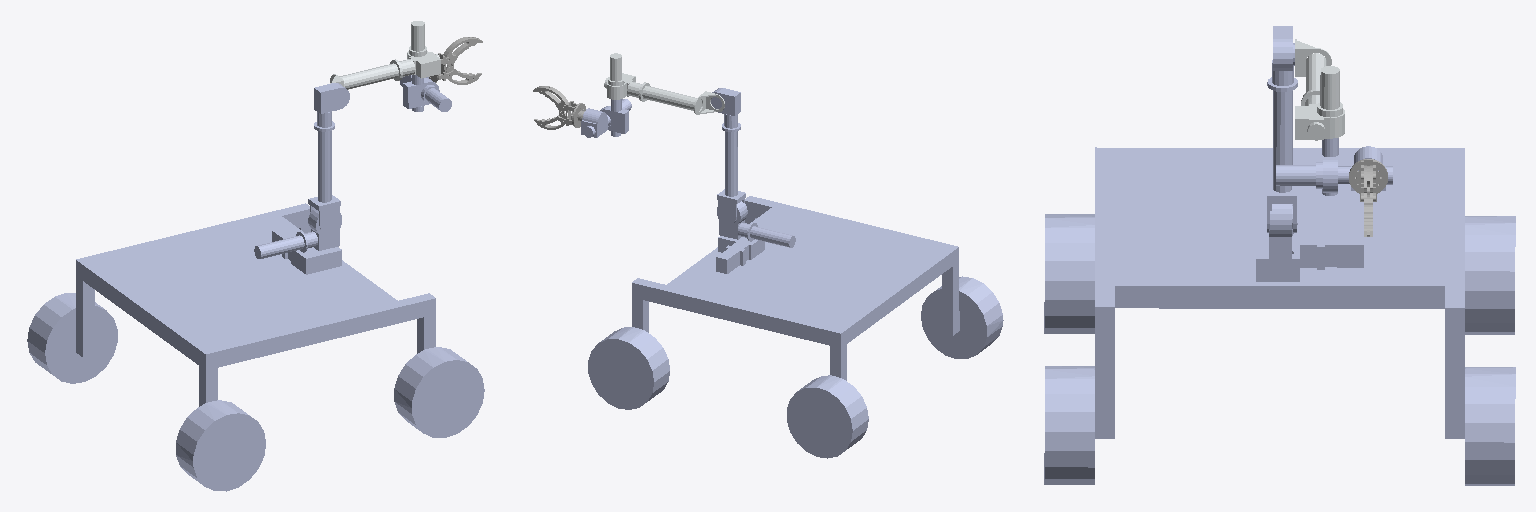
robot.urdf — arm_description:
<?xml version="1.0" encoding="utf-8"?>
<robot
  name="arm_description">
  
  <link name="world">
  </link>

  <joint 
    name="anchor_joint" 
    type="fixed" >
    <origin
      xyz="0 0 1"
      rpy="3.14 0 0" />
    <parent
      link="world" />
    <child
      link="base_link" />
  </joint>


  <link
    name="base_link">
    <inertial>
      <origin
        xyz="0.78499 -0.69958 0.6373"
        rpy="0 0 0" />
      <mass
        value="92.117" />
      <inertia
        ixx="1"
        ixy="1"
        ixz="0"
        iyy="1"
        iyz="0"
        izz="1" />
    </inertial>
    <visual>
      <origin
        xyz="0 0 0"
        rpy="0 0 0" />
      <geometry>
        <mesh
          filename="package://arm_description/meshes/base_link.STL" />
      </geometry>
      <material
        name="">
        <color
          rgba="0.79216 0.81961 0.93333 1" />
      </material>
    </visual>
    <collision>
      <origin
        xyz="0 0 0"
        rpy="0 0 0" />
      <geometry>
        <mesh
          filename="package://arm_description/meshes/base_link.STL" />
      </geometry>
    </collision>
  </link>
  
  <link
    name="link1">
    <inertial>
      <origin
        xyz="-0.061965 -0.0030178 0.060527"
        rpy="0 0 0" />
      <mass
        value="1.2544" />
      <inertia
        ixx="1"
        ixy="1"
        ixz="0"
        iyy="1"
        iyz="0"
        izz="1" />
    </inertial>
    <visual>
      <origin
        xyz="0 0 0"
        rpy="0 0 0" />
      <geometry>
        <mesh
          filename="package://arm_description/meshes/link1.STL" />
      </geometry>
      <material
        name="">
        <color
          rgba="0.79216 0.81961 0.93333 1" />
      </material>
    </visual>
    <collision>
      <origin
        xyz="0 0 0"
        rpy="0 0 0" />
      <geometry>
        <mesh
          filename="package://arm_description/meshes/link1.STL" />
      </geometry>
    </collision>
  </link>
  
  <joint
    name="joint1"
    type="revolute">
    <origin
      xyz="1.1008 -0.70375 0.41184"
      rpy="3.1416 0 0" />
    <parent
      link="base_link" />
    <child
      link="link1" />
    <axis
      xyz="0 0 1" />
    <limit
      lower="-3.14"
      upper="3.14"
      effort="100"
      velocity="20" />
    <dynamics damping="0.1" friction="1"/>
  </joint>
  
  <link
    name="link2">
    <inertial>
      <origin
        xyz="0.0088554 -0.28741 0.033072"
        rpy="0 0 0" />
      <!--mass
        value="1.567" /-->
      <mass
        value="1" />
      <inertia
        ixx="1"
        ixy="1"
        ixz="0"
        iyy="1"
        iyz="0"
        izz="1" />
    </inertial>
    <visual>
      <origin
        xyz="0 0 0"
        rpy="0 0 0" />
      <geometry>
        <mesh
          filename="package://arm_description/meshes/link2.STL" />
      </geometry>
      <material
        name="">
        <color
          rgba="0.79216 0.81961 0.93333 1" />
      </material>
    </visual>
    <collision>
      <origin
        xyz="0 0 0"
        rpy="0 0 0" />
      <geometry>
        <mesh
          filename="package://arm_description/meshes/link2.STL" />
      </geometry>
    </collision>
  </link>
  
  <joint
    name="joint2"
    type="revolute">
    <origin
      xyz="0 -0.03225 0.101"
      rpy="-1.5708 0 0" />
    <parent
      link="link1" />
    <child
      link="link2" />
    <axis
      xyz="0 0 1" />
    <limit
      lower="-1.19"
      upper="1.44"
      effort="100"
      velocity="20" />
    <dynamics damping="0.1" friction="1"/> 
  </joint>
  
  <link
    name="link3">
    <inertial>
      <origin
        xyz="0.30605 -0.013327 0.060364"
        rpy="0 0 0" />
      <!--mass
        value="4.6035" /-->
      <mass
        value="1" />  
      <inertia
        ixx="1"
        ixy="1"
        ixz="0"
        iyy="1"
        iyz="0"
        izz="1" />
    </inertial>
    <visual>
      <origin
        xyz="0 0 0"
        rpy="0 0 0" />
      <geometry>
        <mesh
          filename="package://arm_description/meshes/link3.STL" />
      </geometry>
      <material
        name="">
        <color
          rgba="0.89804 0.91765 0.92941 1" />
      </material>
    </visual>
    <collision>
      <origin
        xyz="0 0 0"
        rpy="0 0 0" />
      <geometry>
        <mesh
          filename="package://arm_description/meshes/link3.STL" />
      </geometry>
    </collision>
  </link>
  
  <joint
    name="joint3"
    type="revolute">
    <origin
      xyz="0.05 -0.478 0.062957"
      rpy="0 0 0" />
    <parent
      link="link2" />
    <child
      link="link3" />
    <axis
      xyz="0 0 1" />
    <limit
      lower="-1.32"
      upper="1.38"
      effort="100"
      velocity="20" />
    <dynamics damping="0.1" friction="1"/>
  </joint>
  
  <link
    name="link4">
    <inertial>
      <origin
        xyz="-0.017085 0.027964 -0.27145"
        rpy="0 0 0" />
      <mass
        value="0.78892" />
      <inertia
        ixx="1"
        ixy="1"
        ixz="0"
        iyy="1"
        iyz="0"
        izz="1" />
    </inertial>
    <visual>
      <origin
        xyz="0 0 0"
        rpy="0 0 0" />
      <geometry>
        <mesh
          filename="package://arm_description/meshes/link4.STL" />
      </geometry>
      <material
        name="">
        <color
          rgba="0.79216 0.81961 0.93333 1" />
      </material>
    </visual>
    <collision>
      <origin
        xyz="0 0 0"
        rpy="0 0 0" />
      <geometry>
        <mesh
          filename="package://arm_description/meshes/link4.STL" />
      </geometry>
    </collision>
  </link>
  
  <joint
    name="joint4"
    type="revolute">
    <origin
      xyz="0.407 -0.146 0.09"
      rpy="-1.5708 0 -3.1416" />
    <parent
      link="link3" />
    <child
      link="link4" />
    <axis
      xyz="0 0 1" />
    <limit
      lower="-3.14"
      upper="3.14"
      effort="100"
      velocity="20" />
    <dynamics damping="0.1" friction="1"/>
  </joint>
  
  <link
    name="link5">
    <inertial>
      <origin
        xyz="0.0055271 -0.013974 -0.064971"
        rpy="0 0 0" />
      <mass
        value="0.58344" />
      <inertia
        ixx="1"
        ixy="1"
        ixz="0"
        iyy="1"
        iyz="0"
        izz="1" />
    </inertial>
    <visual>
      <origin
        xyz="0 0 0"
        rpy="0 0 0" />
      <geometry>
        <mesh
          filename="package://arm_description/meshes/link5.STL" />
      </geometry>
      <material
        name="">
        <color
          rgba="0.79216 0.81961 0.93333 1" />
      </material>
    </visual>
    <collision>
      <origin
        xyz="0 0 0"
        rpy="0 0 0" />
      <geometry>
        <mesh
          filename="package://arm_description/meshes/link5.STL" />
      </geometry>
    </collision>
  </link>
  
  <joint
    name="joint5"
    type="revolute">
    <origin
      xyz="-0.035 -0.159 -0.278"
      rpy="-1.5708 -1.118E-15 -3.1416" />
    <parent
      link="link4" />
    <child
      link="link5" />
    <axis
      xyz="0 0 1" />
    <limit
      lower="-3.14"
      upper="3.14"
      effort="100"
      velocity="20" />
    <dynamics damping="0.1" friction="1"/>
  </joint>
  
  <link
    name="link6">
    <inertial>
      <origin
        xyz="2.2204E-16 -0.00074113 0.17489"
        rpy="0 0 0" />
      <mass
        value="0.86825" />
      <inertia
        ixx="1"
        ixy="1"
        ixz="0"
        iyy="1"
        iyz="0"
        izz="1" />
    </inertial>
    <visual>
      <origin
        xyz="0 0 0"
        rpy="0 0 0" />
      <geometry>
        <mesh
          filename="package://arm_description/meshes/link6.STL" />
      </geometry>
      <material
        name="">
        <color
          rgba="0.75294 0.75294 0.75294 1" />
      </material>
    </visual>
    <collision>
      <origin
        xyz="0 0 0"
        rpy="0 0 0" />
      <geometry>
        <mesh
          filename="package://arm_description/meshes/link6.STL" />
      </geometry>
    </collision>
  </link>
  
  <joint
    name="joint6"
    type="revolute">
    <!--origin
      xyz="-0.028 -0.031 -0.062"
      rpy="0 1.5708 0" /-->
    <origin
      xyz="0.16 -0.031 -0.062"
      rpy="0 1.5708 0" />
    <parent
      link="link5" />
    <child
      link="link6" />
    <axis
      xyz="0 0 1" />
    <limit
      lower="-3.14"
      upper="3.14"
      effort="100"
      velocity="20" />
    <dynamics damping="0.1" friction="1"/>
  </joint>

  <transmission name="tran1">
    <type>transmission_interface/SimpleTransmission</type>
    <joint name="joint1">
      <hardwareInterface>hardware_interface/EffortJointInterface</hardwareInterface>
    </joint>
    <actuator name="motor1">
      <hardwareInterface>hardware_interface/EffortJointInterface</hardwareInterface>
      <mechanicalReduction>1</mechanicalReduction>
    </actuator>
  </transmission>

  <transmission name="tran2">
    <type>transmission_interface/SimpleTransmission</type>
    <joint name="joint2">
      <hardwareInterface>hardware_interface/EffortJointInterface</hardwareInterface>
    </joint>
    <actuator name="motor2">
      <hardwareInterface>hardware_interface/EffortJointInterface</hardwareInterface>
      <mechanicalReduction>1</mechanicalReduction>
    </actuator>
  </transmission>

  <transmission name="tran3">
    <type>transmission_interface/SimpleTransmission</type>
    <joint name="joint3">
      <hardwareInterface>hardware_interface/EffortJointInterface</hardwareInterface>
    </joint>
    <actuator name="motor3">
      <hardwareInterface>hardware_interface/EffortJointInterface</hardwareInterface>
      <mechanicalReduction>1</mechanicalReduction>
    </actuator>
  </transmission>

  <transmission name="tran4">
    <type>transmission_interface/SimpleTransmission</type>
    <joint name="joint4">
      <hardwareInterface>hardware_interface/EffortJointInterface</hardwareInterface>
    </joint>
    <actuator name="motor4">
      <hardwareInterface>hardware_interface/EffortJointInterface</hardwareInterface>
      <mechanicalReduction>1</mechanicalReduction>
    </actuator>
  </transmission>

  <transmission name="tran5">
    <type>transmission_interface/SimpleTransmission</type>
    <joint name="joint5">
      <hardwareInterface>hardware_interface/EffortJointInterface</hardwareInterface>
    </joint>
    <actuator name="motor5">
      <hardwareInterface>hardware_interface/EffortJointInterface</hardwareInterface>
      <mechanicalReduction>1</mechanicalReduction>
    </actuator>
  </transmission>

  <transmission name="tran6">
    <type>transmission_interface/SimpleTransmission</type>
    <joint name="joint6">
      <hardwareInterface>hardware_interface/EffortJointInterface</hardwareInterface>
    </joint>
    <actuator name="motor6">
      <hardwareInterface>hardware_interface/EffortJointInterface</hardwareInterface>
      <mechanicalReduction>1</mechanicalReduction>
    </actuator>
  </transmission>

  <gazebo>
    <plugin name="gazebo_ros_control" filename="libgazebo_ros_control.so">
    </plugin>
  </gazebo>

</robot>

--- Render facts (derived) ---
Views: 3 orthographic renders of the robot side by side, from view 1: azimuth 30°, elevation 25°; view 2: azimuth 150°, elevation 25°; view 3: azimuth 270°, elevation 25°.
Robot: arm_description — 8 links, 7 joints (6 revolute, 1 fixed); root link world; default pose: all joints at 0.
Visible links, largest first — view 1: base_link, link2, link3, link1, link4, link6; view 2: base_link, link2, link3, link1, link6, link4, link5; view 3: base_link, link3, link2, link4, link6, link1, link5.
Boxes of the visible links, x1,y1,x2,y2 form: base_link: [27, 203, 484, 491]; link2: [308, 83, 349, 233]; link3: [330, 21, 440, 89]; link1: [254, 208, 341, 258]; link4: [403, 75, 451, 111]; link6: [429, 37, 482, 84]; base_link: [588, 196, 1003, 458]; link2: [711, 88, 745, 224]; link3: [604, 53, 724, 114]; link1: [717, 201, 795, 247]; link6: [533, 86, 585, 129]; link4: [600, 99, 631, 136]; link5: [581, 108, 610, 137]; base_link: [1044, 147, 1515, 485]; link3: [1295, 39, 1344, 140]; link2: [1267, 26, 1297, 232]; link4: [1276, 138, 1338, 195]; link6: [1349, 159, 1387, 236]; link1: [1269, 204, 1297, 259]; link5: [1338, 146, 1392, 190].
Size in the robot's own frame: 1.67 by 1.19 by 1.28 metres.
Meshes: 7 distinct files referenced, 7 mesh visuals loaded (7 binary STL).